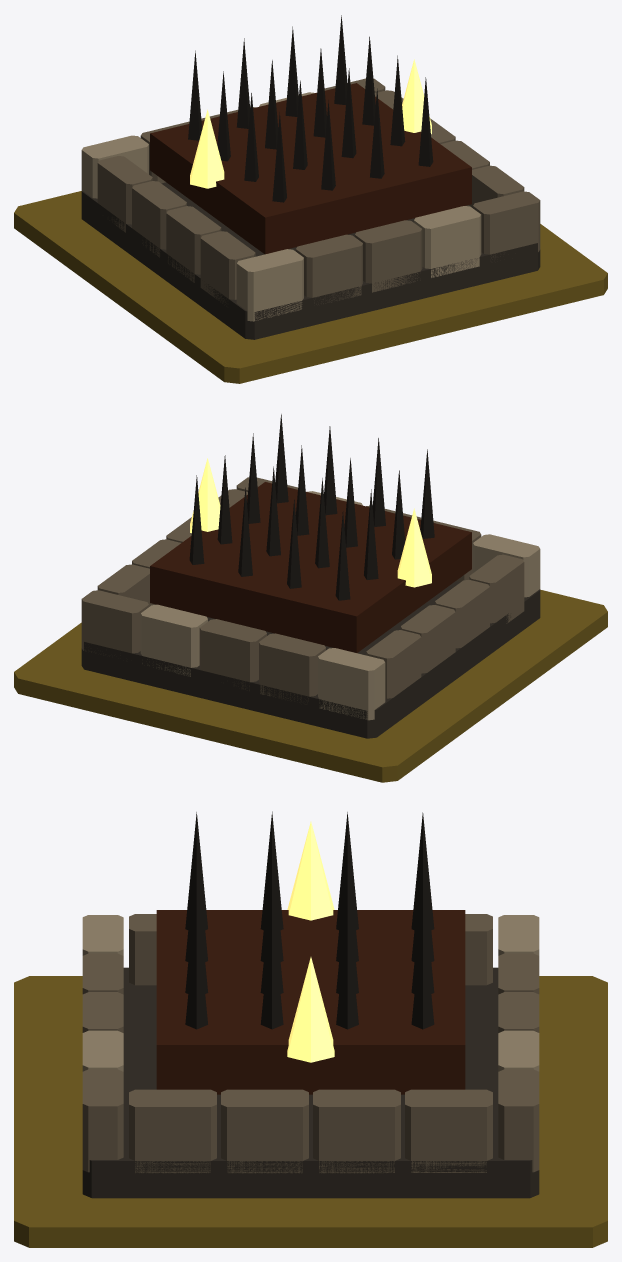
The model's file is fire_trap_t1.glb.
The picture shows the model from 3 angles, top to bottom: view 1: azimuth 30°, elevation 25°; view 2: azimuth 150°, elevation 25°; view 3: azimuth 270°, elevation 25°; orthographic projection. The views are drawn at different scales.
Visible parts, largest first — view 1: MMR | fire-trap | T01 Architecture.001, MMR | fire-trap | Tier 01 Ground.001, MMR | fire-trap | T01 Flame Glow.001; view 2: MMR | fire-trap | T01 Architecture.001, MMR | fire-trap | Tier 01 Ground.001, MMR | fire-trap | T01 Flame Glow.001; view 3: MMR | fire-trap | T01 Architecture.001, MMR | fire-trap | Tier 01 Ground.001, MMR | fire-trap | T01 Flame Glow.001.
Part boxes in pixels (x1,y1,x2,y2): MMR | fire-trap | T01 Architecture.001: (81, 15, 540, 339); MMR | fire-trap | Tier 01 Ground.001: (14, 191, 607, 383); MMR | fire-trap | T01 Flame Glow.001: (190, 59, 431, 188); MMR | fire-trap | T01 Architecture.001: (81, 414, 540, 738); MMR | fire-trap | Tier 01 Ground.001: (14, 589, 607, 782); MMR | fire-trap | T01 Flame Glow.001: (190, 458, 431, 587); MMR | fire-trap | T01 Architecture.001: (82, 811, 539, 1198); MMR | fire-trap | Tier 01 Ground.001: (14, 976, 607, 1247); MMR | fire-trap | T01 Flame Glow.001: (287, 821, 334, 1062).
Size of the model in its own units: 1.3 by 0.635 by 1.3.
2 materials, 1 textured.
